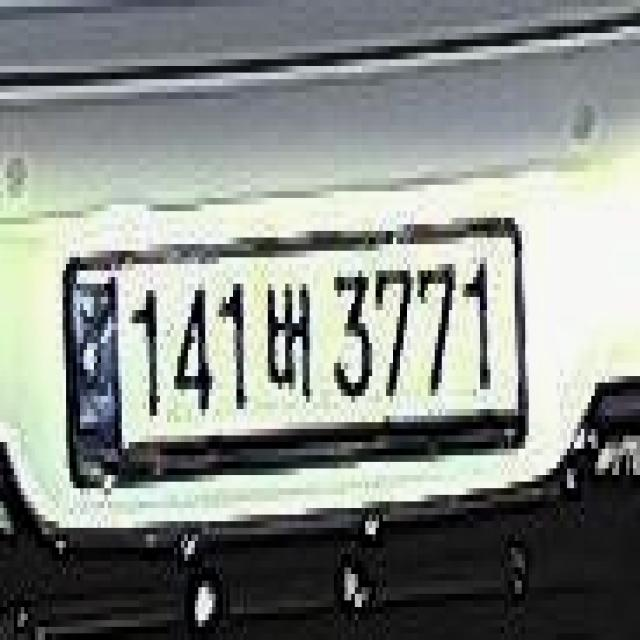illegal_plate: (59, 220, 530, 472)
